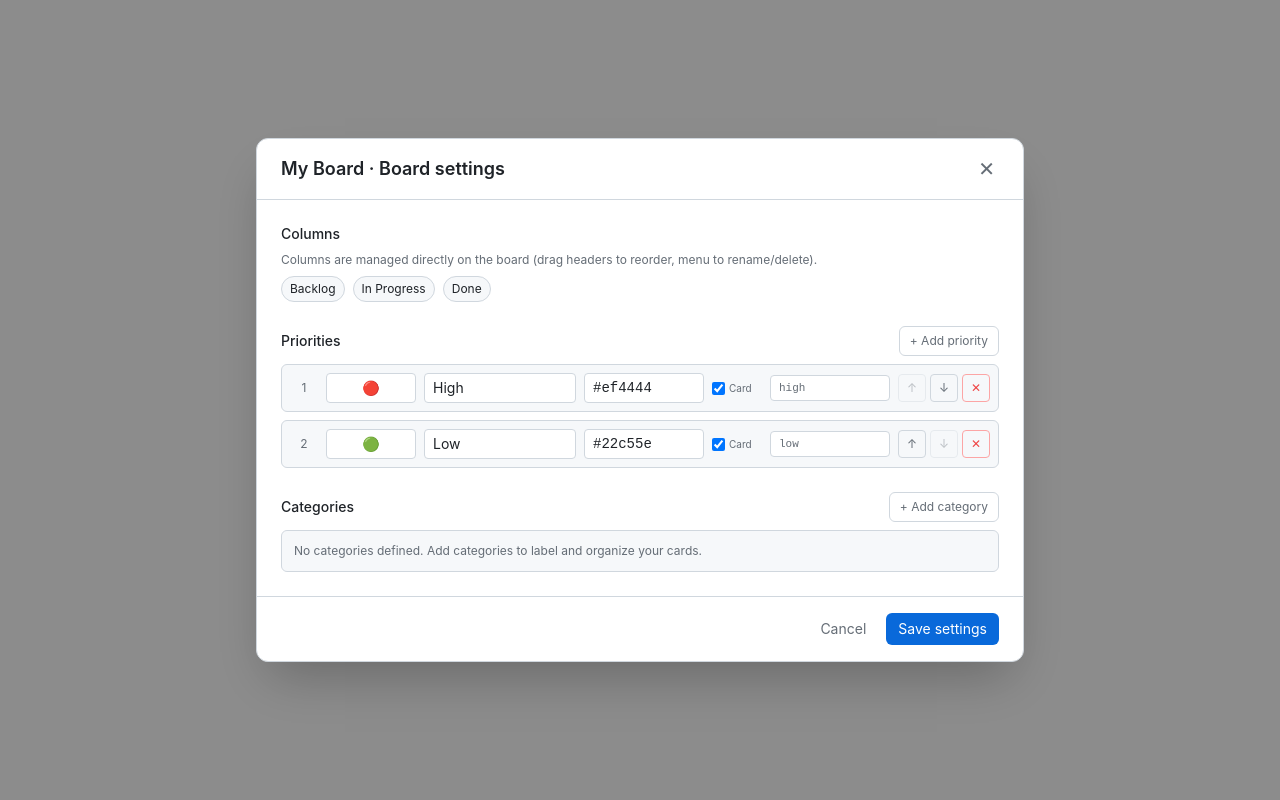
Test case: delete priority › removes a row
Click the button titled "Delete priority" next to "high" at (976, 388), box [962,374,990,402]
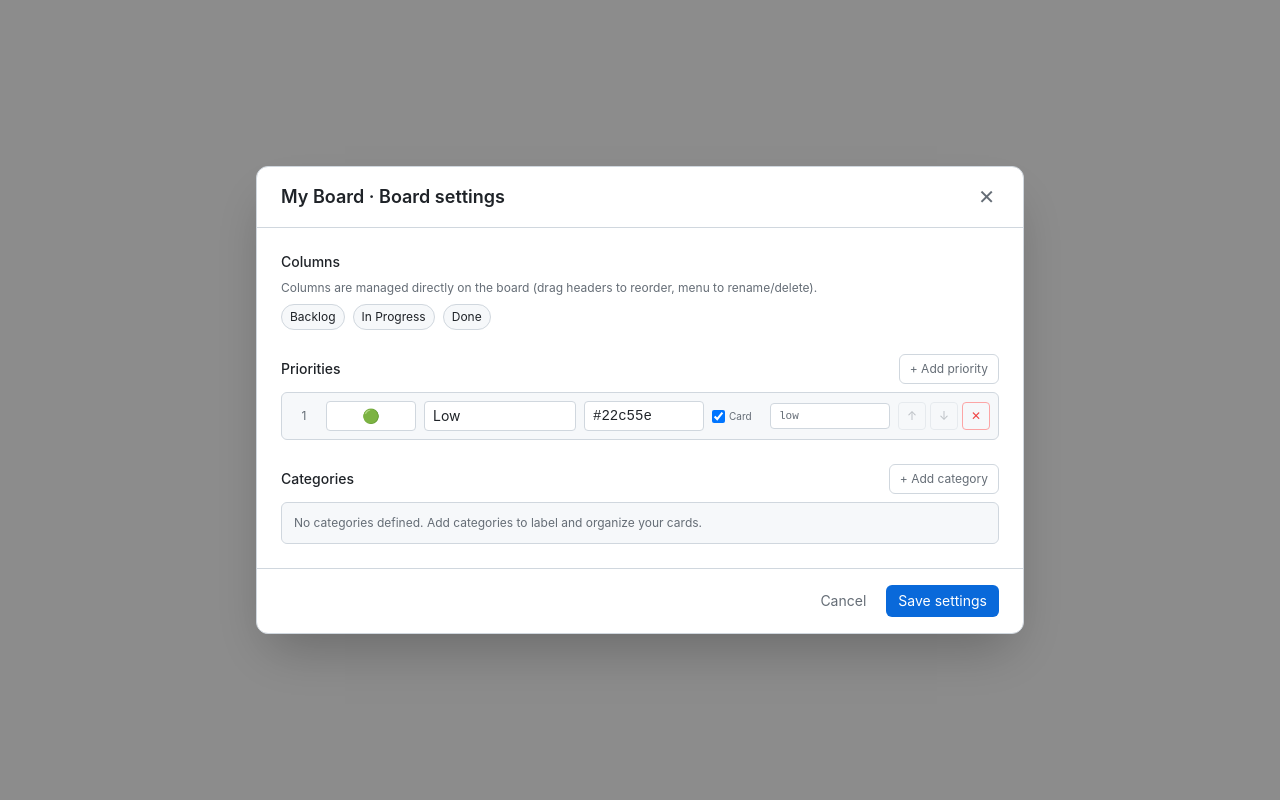
Check: the number of fields with placeholder "Priority label" is 1, box [424,401,576,431]
